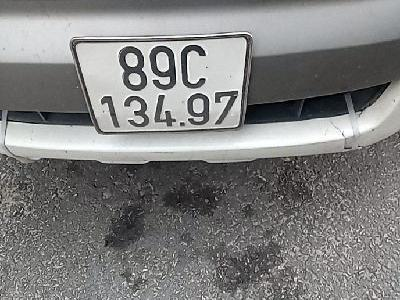lisence: (68, 30, 254, 135)
